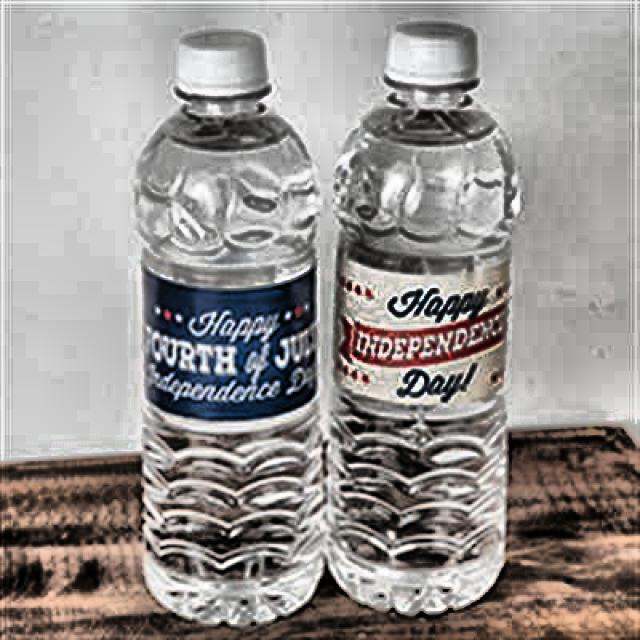Bottles: (314, 18, 527, 622), (124, 19, 332, 624)
